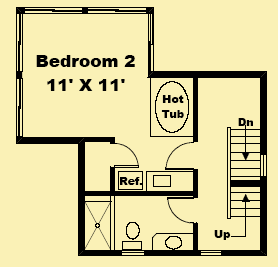door: (165, 142, 197, 170), (166, 196, 197, 224), (110, 143, 140, 169)
large_sink: (120, 220, 144, 250)
small_sink: (151, 231, 193, 251)
stairs: (226, 117, 261, 222)
tub: (149, 76, 194, 138)
window: (13, 12, 25, 72), (14, 77, 24, 138), (23, 6, 83, 16), (146, 11, 155, 72), (85, 6, 148, 14), (199, 248, 223, 258)
